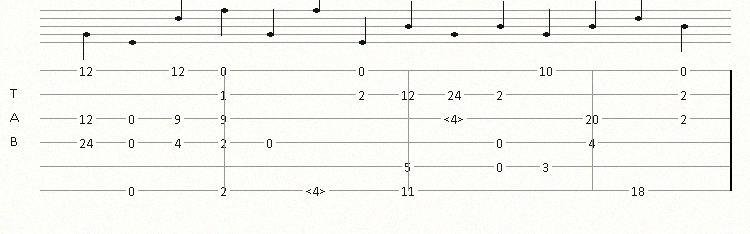0: (128, 112, 139, 125), (128, 136, 139, 149), (128, 184, 139, 197), (220, 64, 231, 77), (266, 136, 277, 149), (358, 64, 369, 77), (496, 136, 507, 149), (496, 160, 507, 173), (680, 64, 691, 77)
1: (220, 88, 231, 101)
10: (539, 64, 557, 77)
11: (401, 184, 419, 197)
12: (79, 64, 97, 77), (79, 112, 97, 125), (171, 64, 189, 77), (401, 88, 419, 101)
18: (631, 184, 649, 197)
2: (220, 136, 231, 149), (220, 184, 231, 197), (358, 88, 369, 101), (496, 88, 507, 101), (680, 88, 691, 101), (680, 112, 691, 125)
20: (585, 112, 603, 125)
24: (79, 136, 97, 149), (447, 88, 465, 101)
3: (542, 160, 553, 173)
4: (174, 136, 185, 149), (588, 136, 599, 149)
5: (404, 160, 415, 173)
9: (174, 112, 185, 125), (220, 112, 231, 125)
harmonic: (305, 184, 330, 197), (443, 112, 468, 125)
